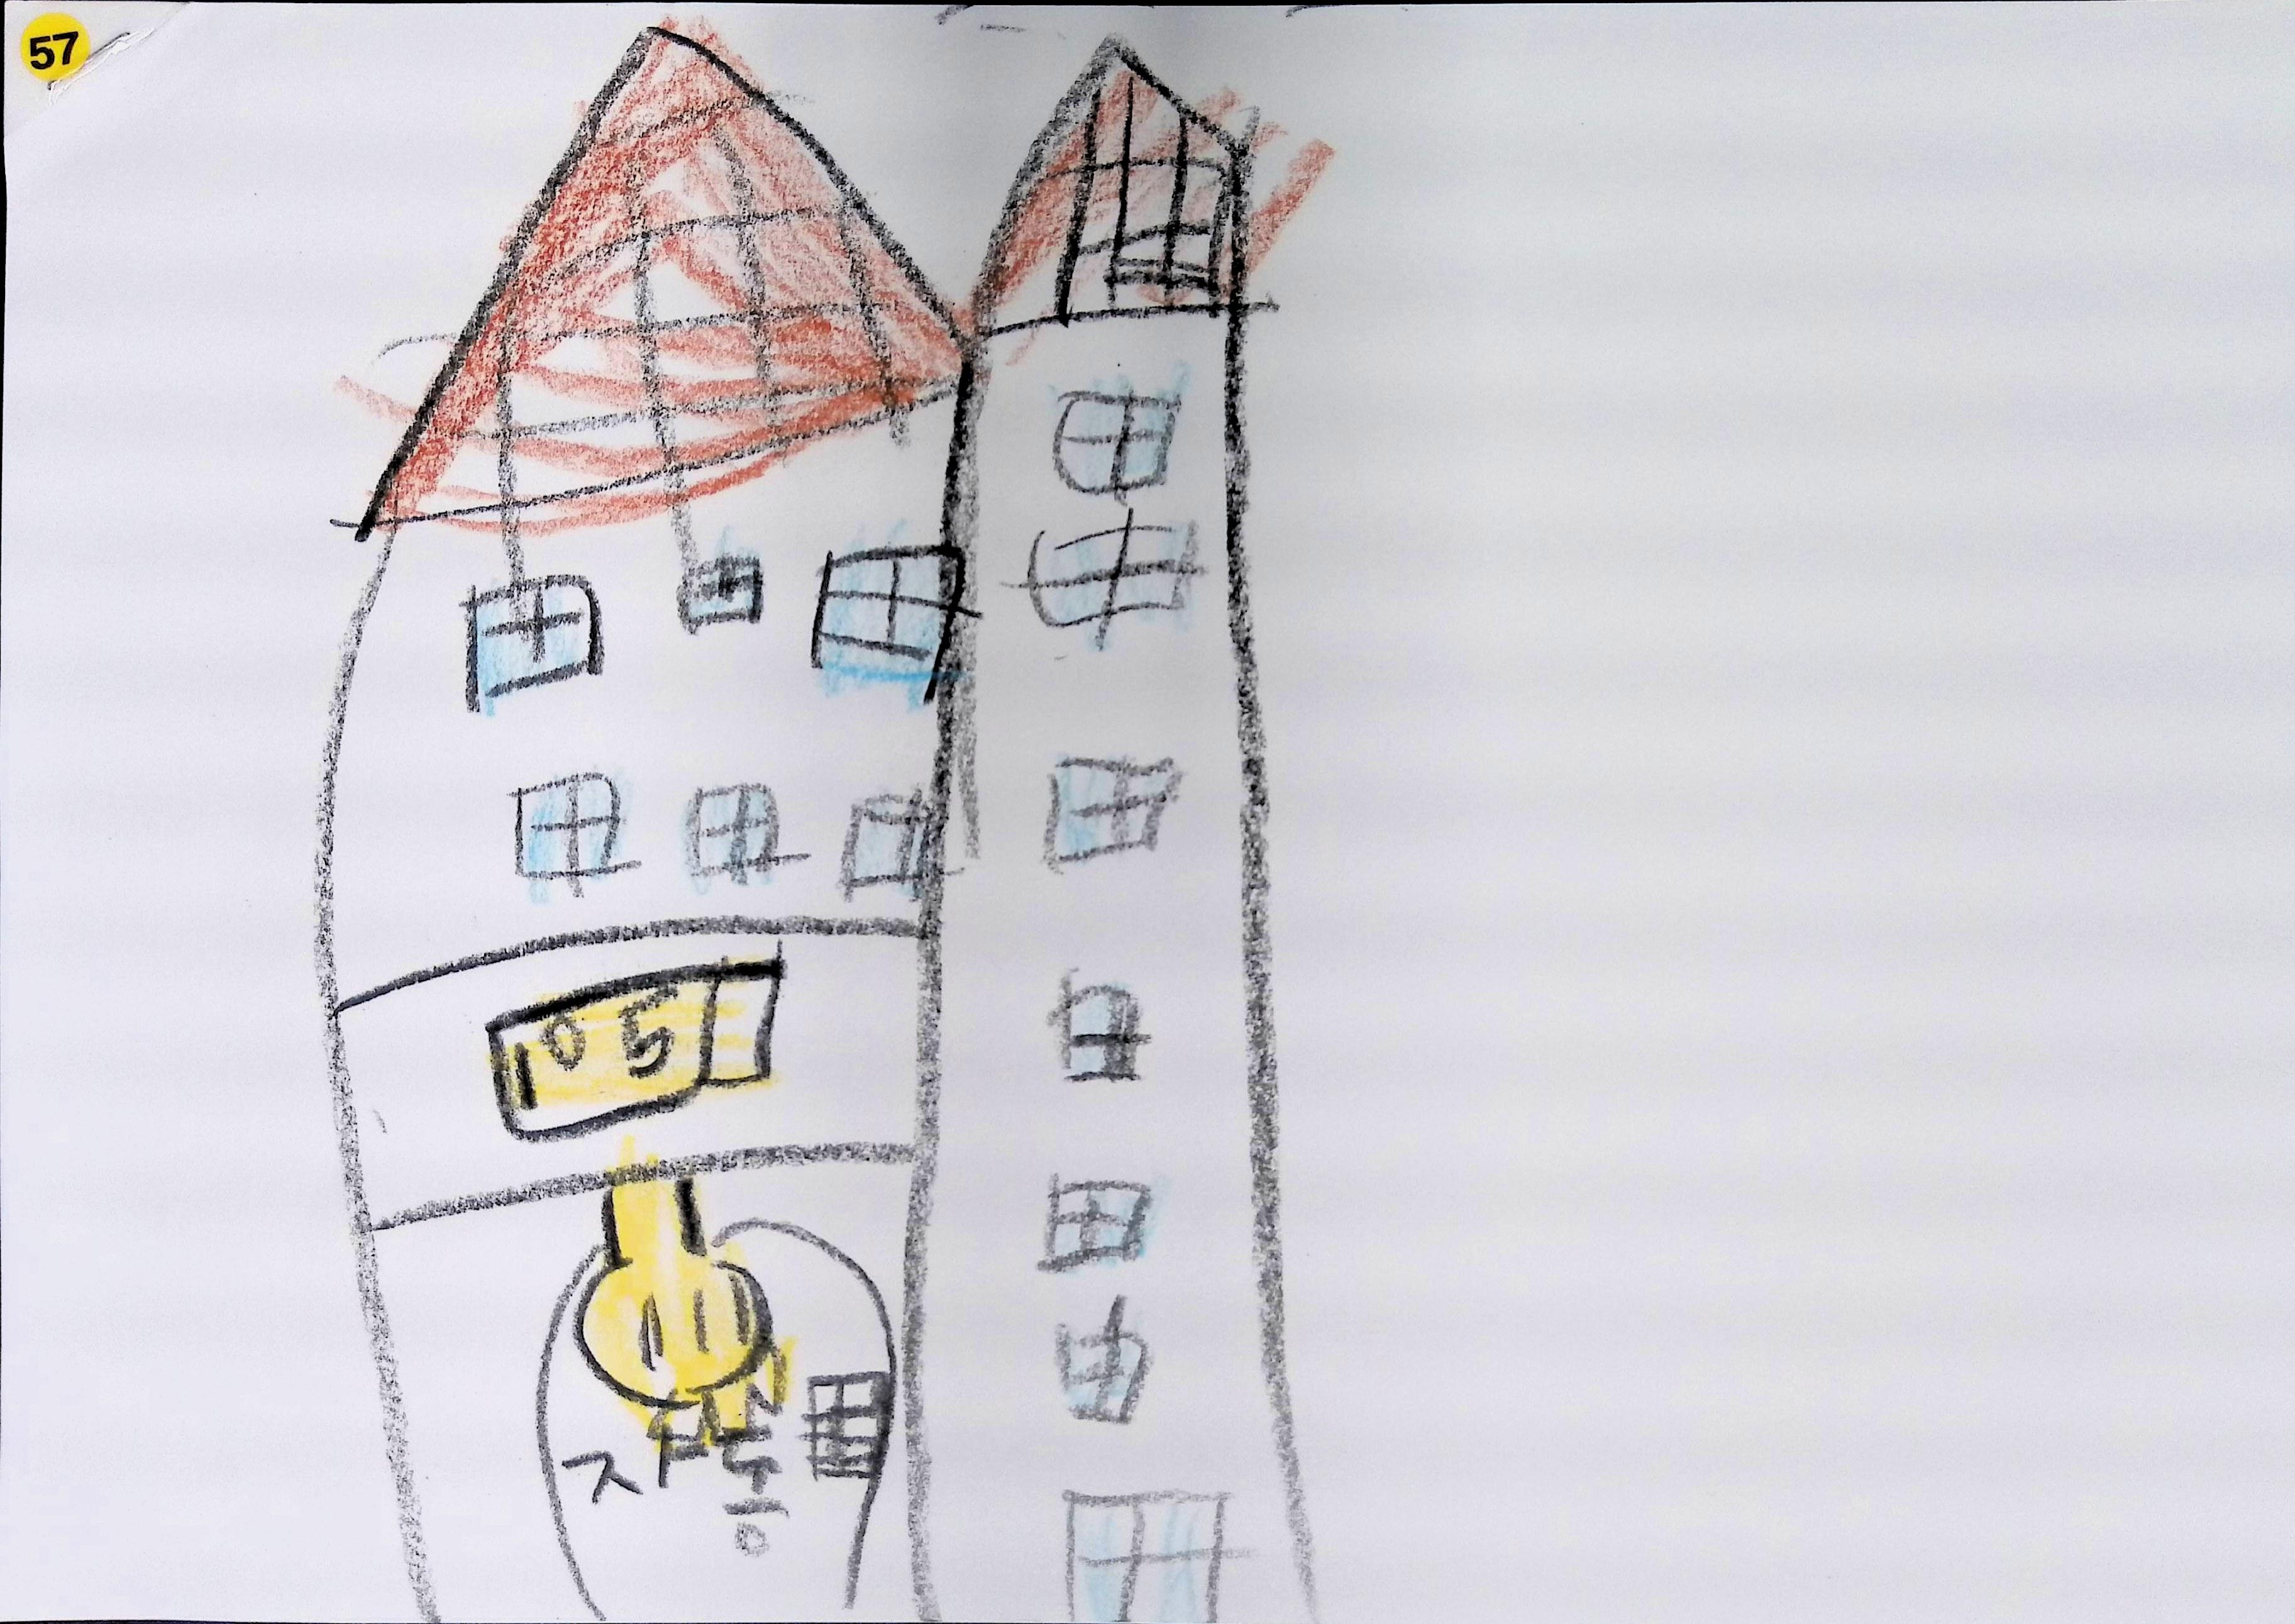door: (539, 1178, 891, 1624), (1065, 1492, 1228, 1624)
house: (316, 23, 1318, 1622)
roof: (353, 25, 965, 536), (972, 44, 1242, 329)
wall: (323, 381, 965, 1624), (909, 309, 1325, 1624)
window: (810, 543, 965, 698), (459, 575, 601, 714), (1026, 522, 1195, 622), (1044, 758, 1183, 870), (1053, 390, 1181, 494), (1039, 1176, 1153, 1272), (511, 773, 617, 875), (840, 791, 928, 900), (1056, 1338, 1151, 1425), (685, 782, 771, 877), (1063, 988, 1149, 1083), (677, 552, 761, 633)
